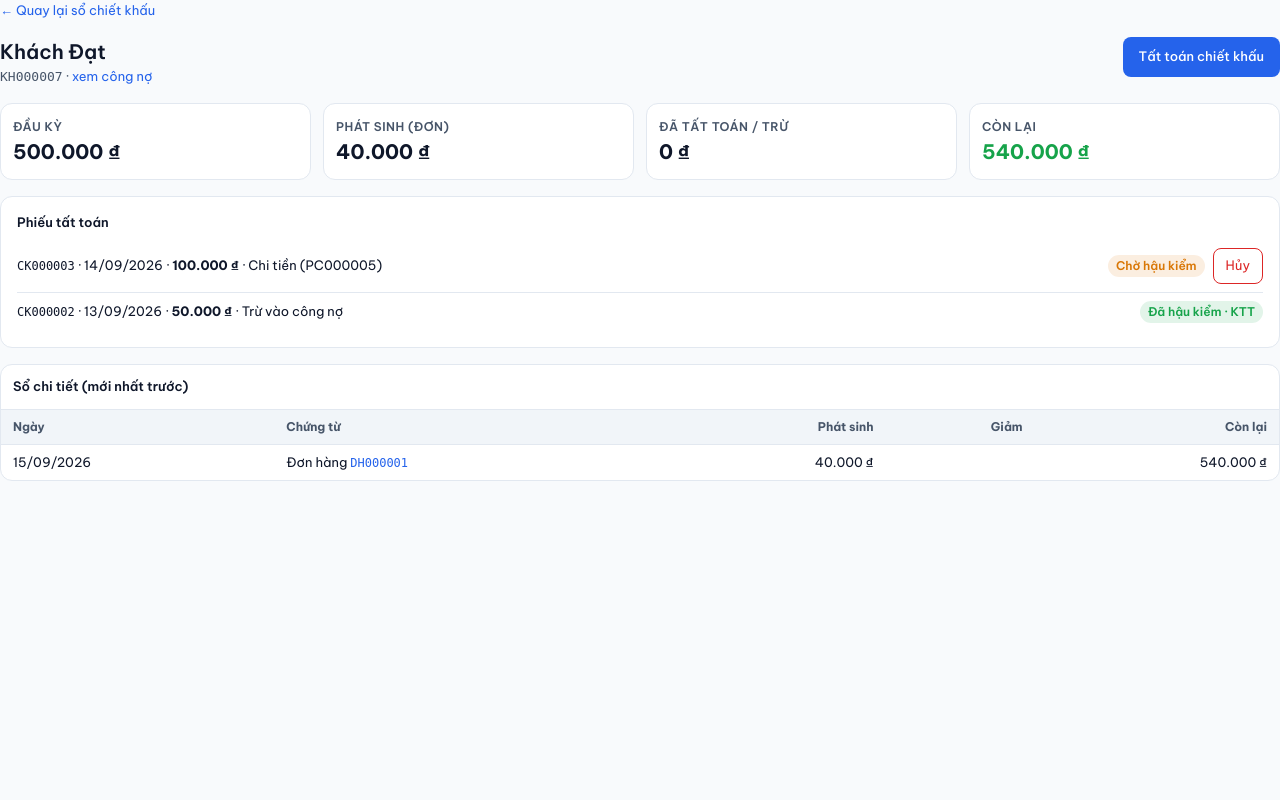
Scenario: DiscountDetail › OFFSET giới hạn theo số khách đang nợ và ẩn ô quỹ
Click the button "Tất toán chiết khấu" at (1201, 57), box [1122, 37, 1279, 77]
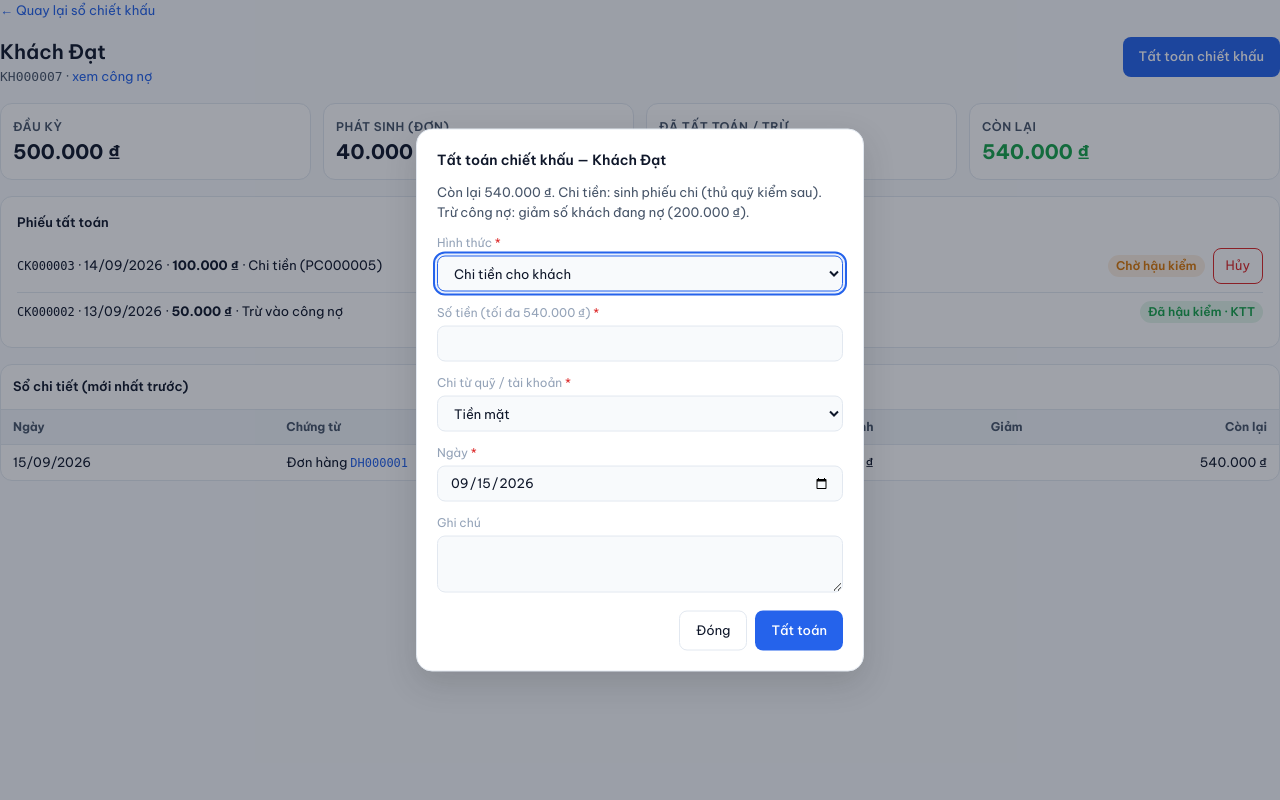
Select "Trừ vào công nợ" in the dropdown labelled "Hình thức *" at (640, 274), box [437, 256, 843, 292]
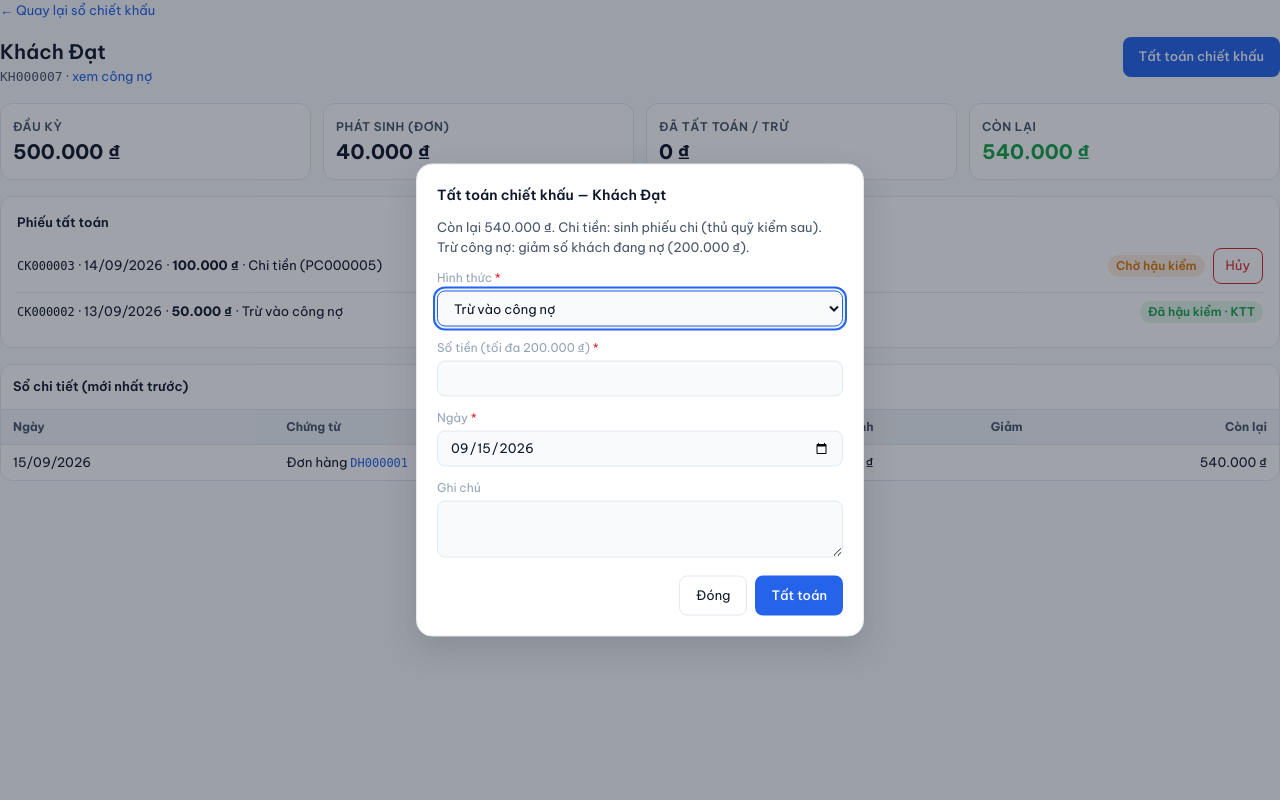
expect the label labelled "Chi từ quỹ" is gone: met
Type "250000" into the number field labelled "Số tiền (tối đa 200.000 ₫) *" at (640, 378), box [437, 360, 843, 396]
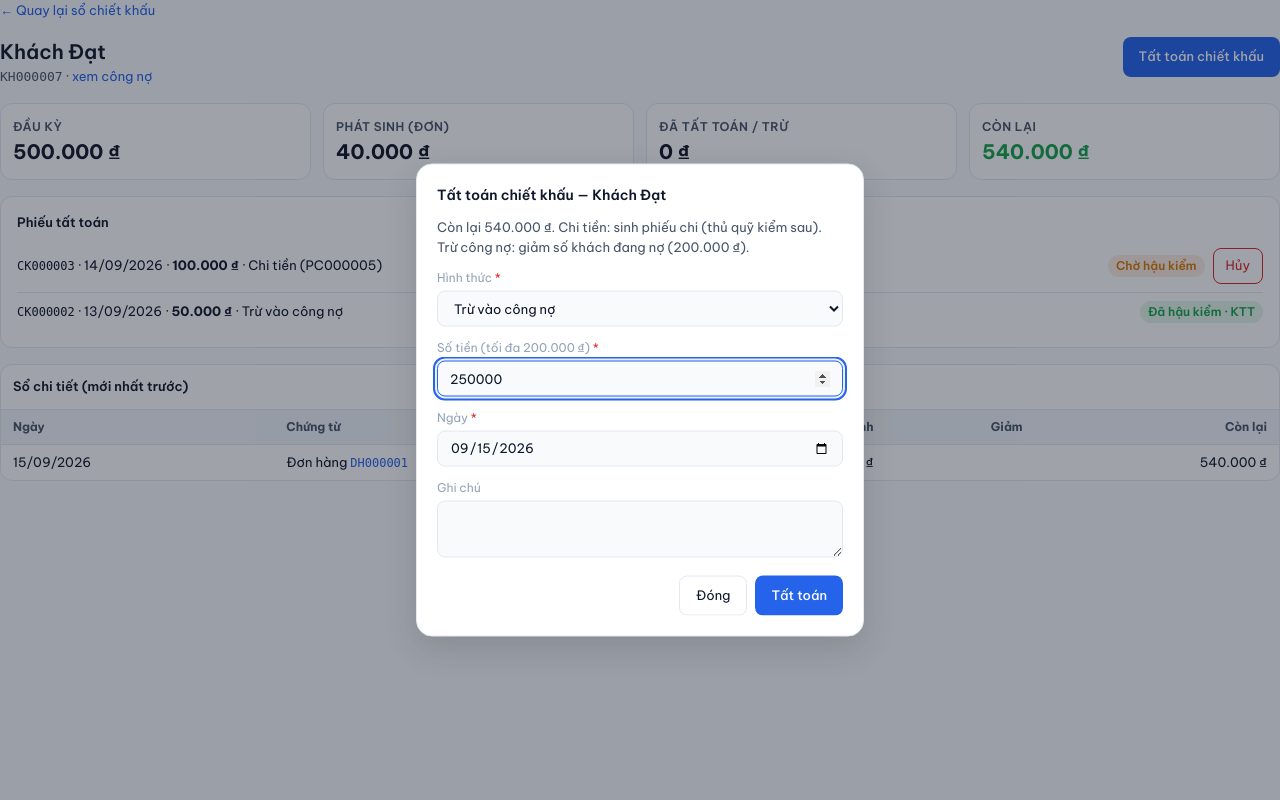
Click the button "Tất toán" at (799, 596), box [755, 576, 843, 616]
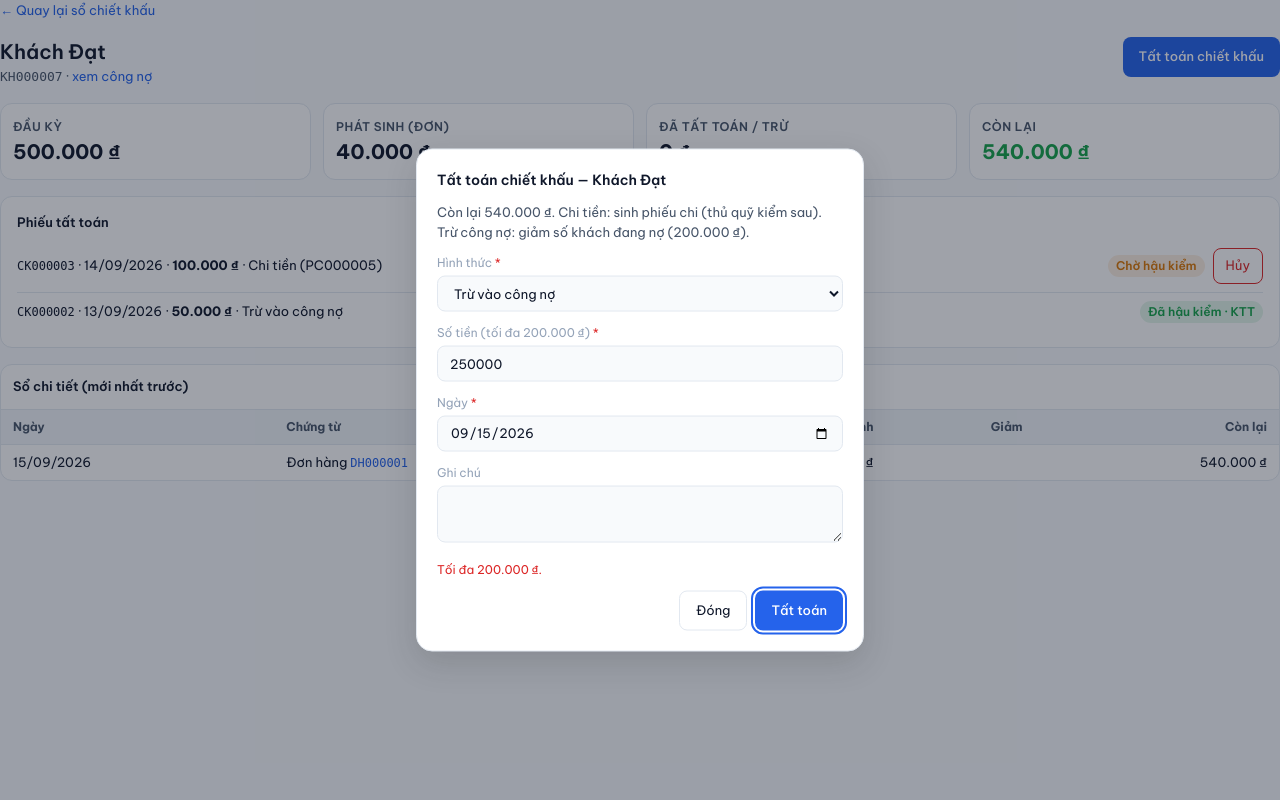
expect the text "Tối đa 200.000 ₫." is shown: met, box [437, 562, 542, 576]
